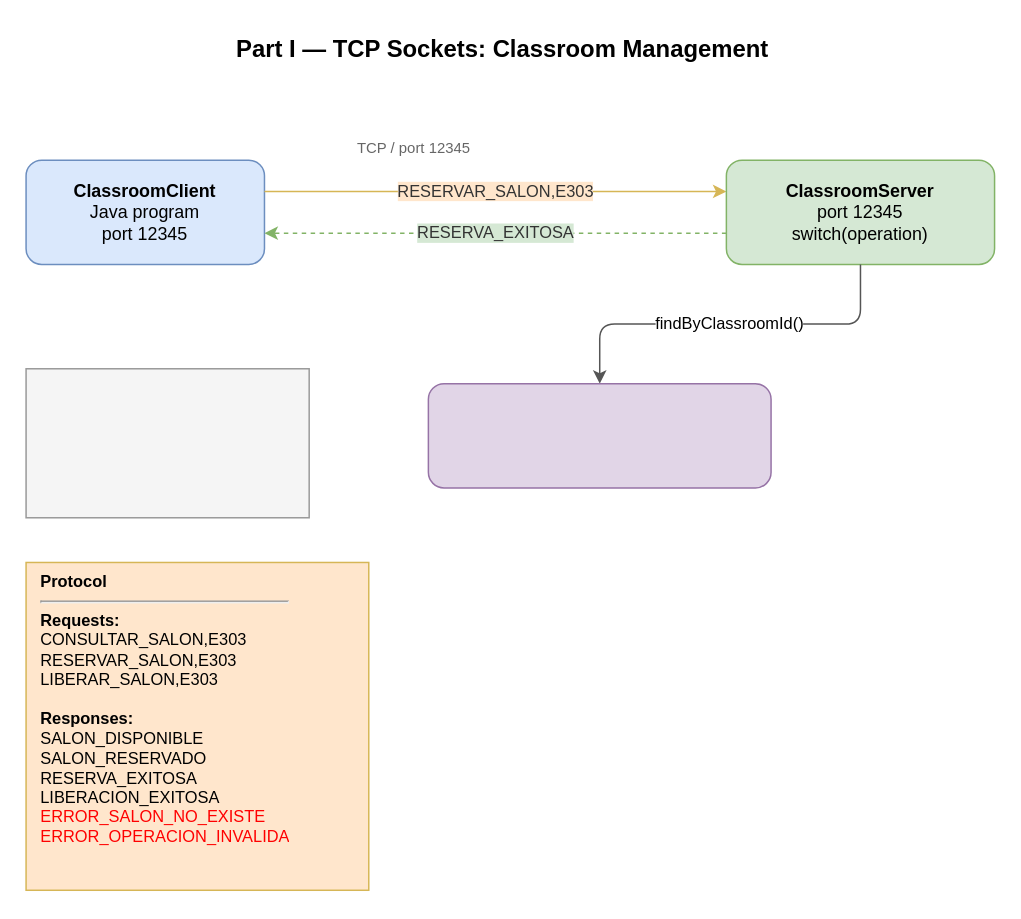
Some shapes in this 1021 by 919 pixel diagram are drawn without their labels. Each missing label, with the centre of its shape:
"ClassroomRepository HashMap<String, Classroom> data in memory" goes at [599,435].
"Initial State E301 → AVAILABLE E302 → RESERVED E303 → RESERVED E304 → AVAILABLE" goes at [167,442].
